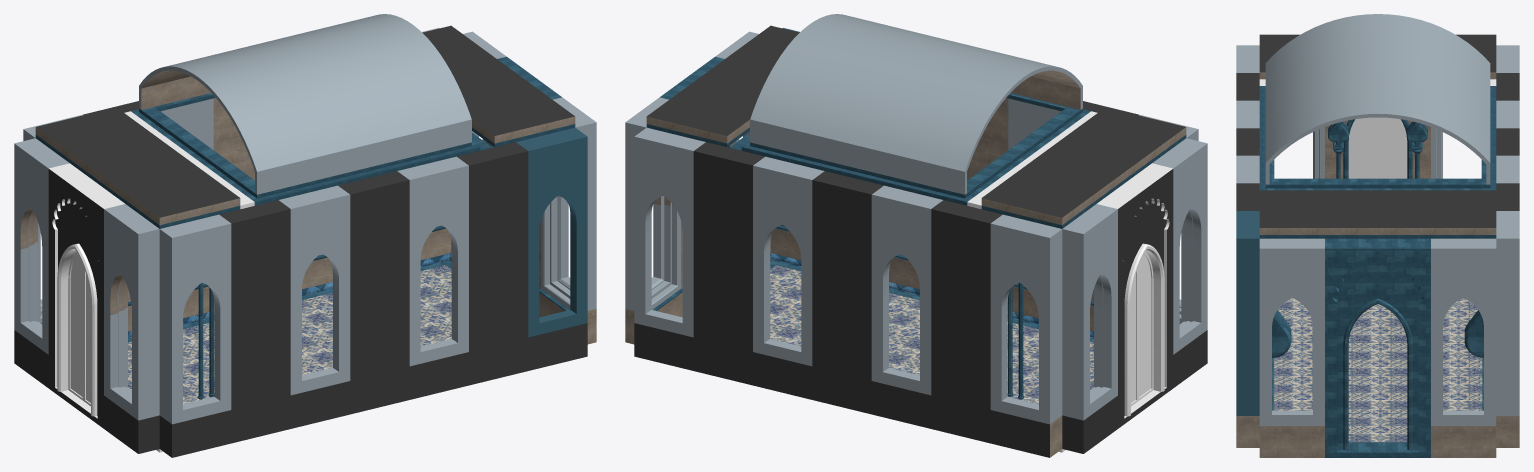
File: ROOM 05D2.fbx
3 renders of one model, left to right at view 1: azimuth 30°, elevation 25°; view 2: azimuth 150°, elevation 25°; view 3: azimuth 270°, elevation 25°, orthographic. The views are drawn at different scales.
Visible parts, largest first — view 1: Group_3, Group_38, Group_41, Group_39, Group_12, Component_12_7, Component_12, Polygon, Component_12_8, Component_12_9, Component_12_10, Group_11 (+25 smaller); view 2: Group_3, Group_21, Group_22, Group_19, Group_12, Component_12_5, Component_12_2, Polygon, Component_12_4, Component_12_3, Component_12_6, Group_11 (+25 smaller); view 3: Group_3, Polygon_2, Group_59, Group_11, Component_12_11, Component_12_12, Component_12_6, Component_12_10, Group_4, Group_58, Group_15, Group_44 (+23 smaller).
Boxes of the visible parts, bbox=[...] form: Group_3: bbox=[139, 14, 471, 194]; Group_38: bbox=[219, 200, 290, 409]; Group_41: bbox=[457, 142, 528, 351]; Group_39: bbox=[338, 171, 409, 380]; Group_12: bbox=[35, 107, 240, 224]; Component_12_7: bbox=[159, 214, 231, 424]; Component_12: bbox=[104, 204, 159, 420]; Polygon: bbox=[48, 163, 124, 428]; Component_12_8: bbox=[279, 185, 350, 395]; Component_12_9: bbox=[397, 156, 468, 366]; Component_12_10: bbox=[516, 127, 587, 337]; Group_11: bbox=[422, 25, 575, 143]; Group_3: bbox=[750, 14, 1082, 194]; Group_21: bbox=[693, 142, 764, 351]; Group_22: bbox=[931, 200, 1002, 409]; Group_19: bbox=[812, 171, 883, 380]; Group_12: bbox=[981, 107, 1186, 224]; Component_12_5: bbox=[990, 214, 1062, 424]; Component_12_2: bbox=[1062, 204, 1117, 420]; Polygon: bbox=[1097, 163, 1173, 428]; Component_12_4: bbox=[871, 185, 942, 395]; Component_12_3: bbox=[753, 156, 824, 366]; Component_12_6: bbox=[634, 127, 705, 337]; Group_11: bbox=[646, 25, 799, 143]; Group_3: bbox=[1265, 14, 1490, 184]; Polygon_2: bbox=[1325, 238, 1430, 457]; Group_59: bbox=[1272, 298, 1483, 442]; Group_11: bbox=[1259, 190, 1496, 234]; Component_12_11: bbox=[1259, 238, 1324, 425]; Component_12_12: bbox=[1431, 238, 1496, 425]; Component_12_6: bbox=[1496, 211, 1519, 415]; Component_12_10: bbox=[1236, 211, 1259, 415]; Group_4: bbox=[1265, 160, 1490, 188]; Group_58: bbox=[1259, 86, 1496, 190]; Group_15: bbox=[1431, 426, 1496, 457]; Group_44: bbox=[1259, 426, 1324, 457].
Size of the model in its own units: 1549 by 984 by 868.
Materials: 7 (4 with a texture image).
